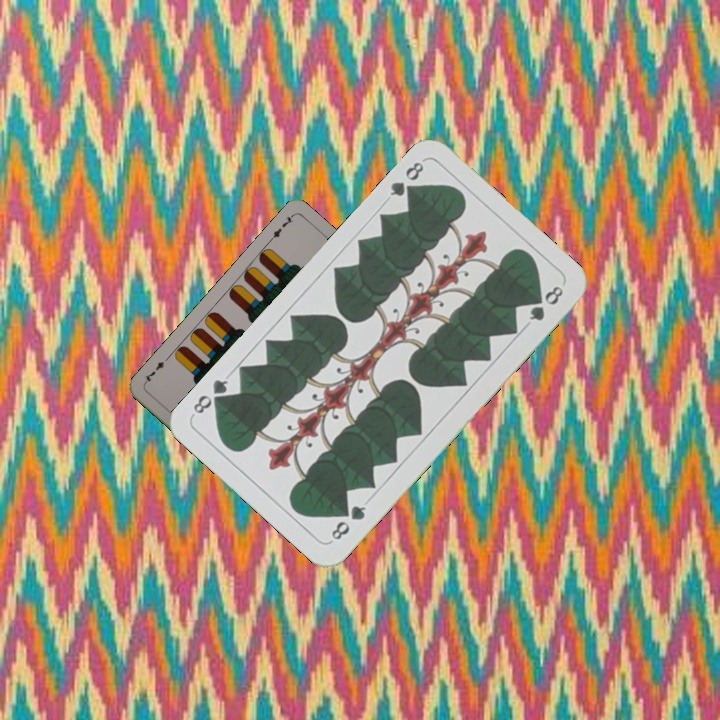E7: (265, 211, 296, 244)
G8: (385, 157, 427, 201), (326, 501, 369, 543)
